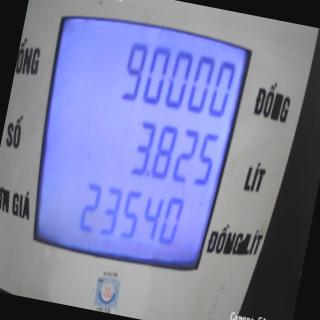screen: (12, 0, 260, 285)
